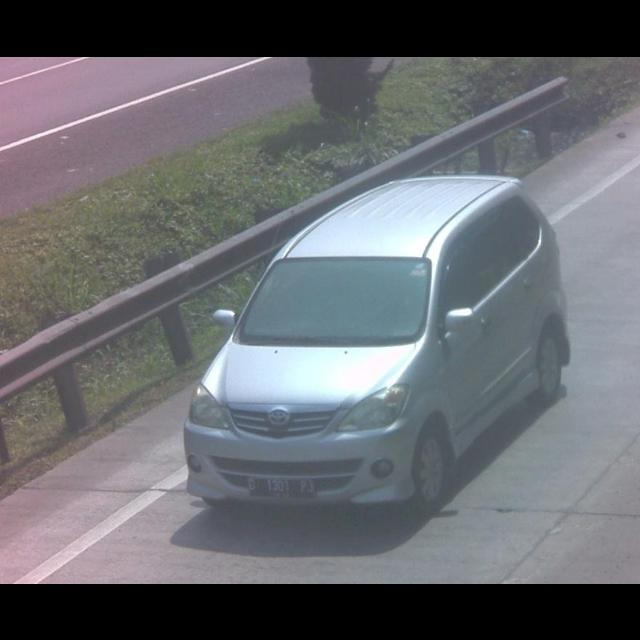plate: (246, 474, 322, 501)
